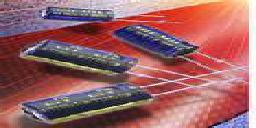Electrolytic-Capacitor: (18, 83, 174, 127), (19, 37, 150, 81), (113, 23, 207, 63), (37, 5, 178, 28)
